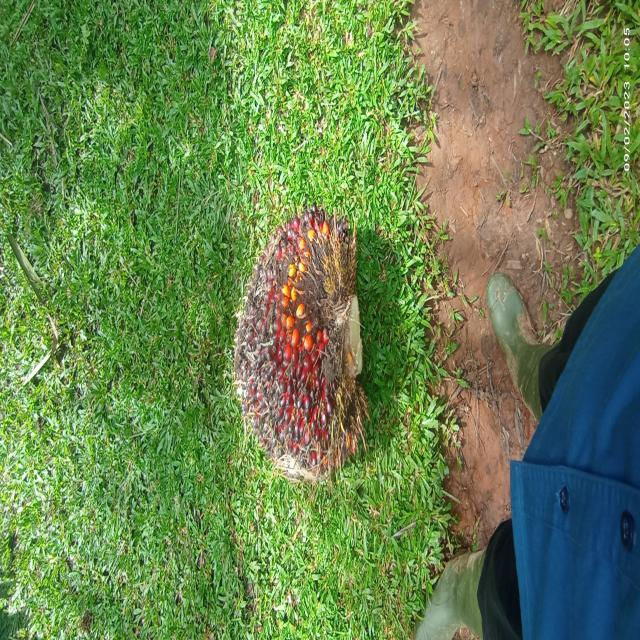fraksi 1: (217, 184, 387, 538)
